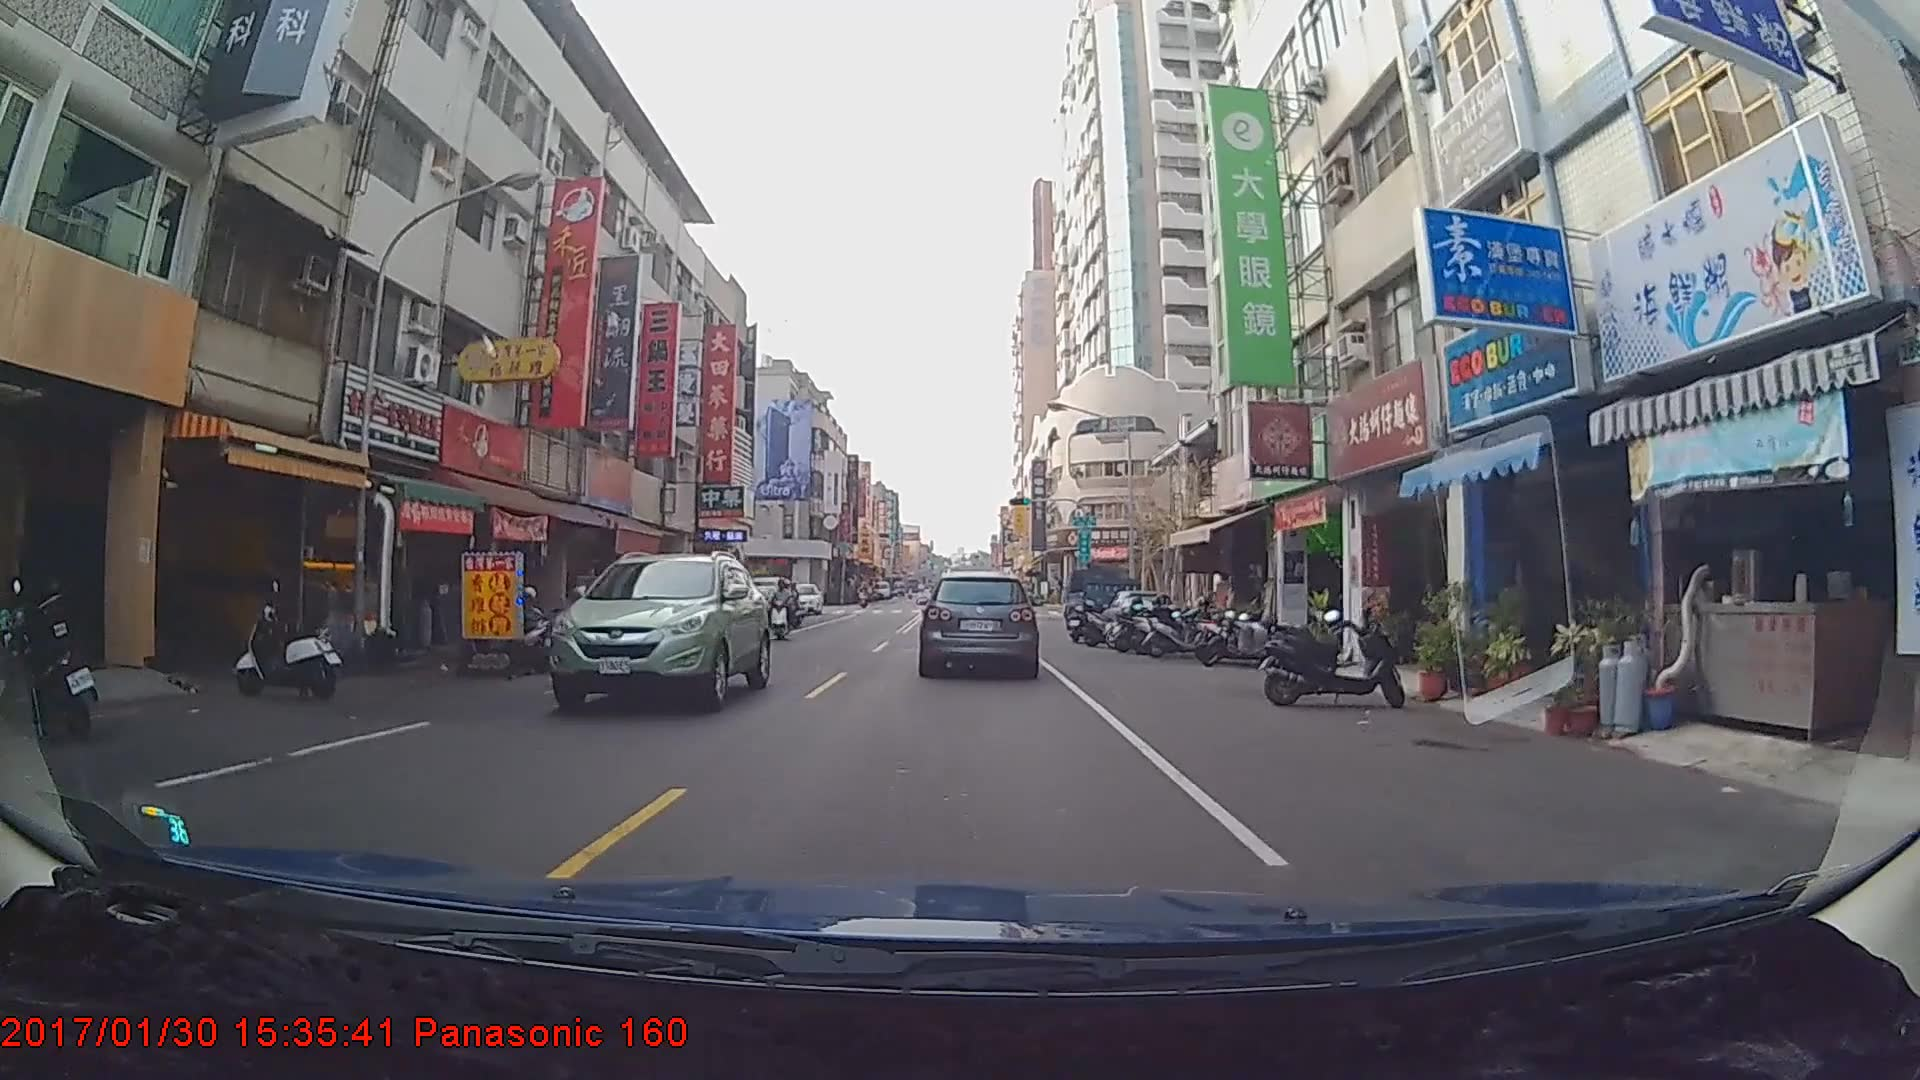vehicle: (547, 549, 771, 711), (919, 572, 1036, 675), (1064, 566, 1145, 633), (782, 583, 822, 615)
